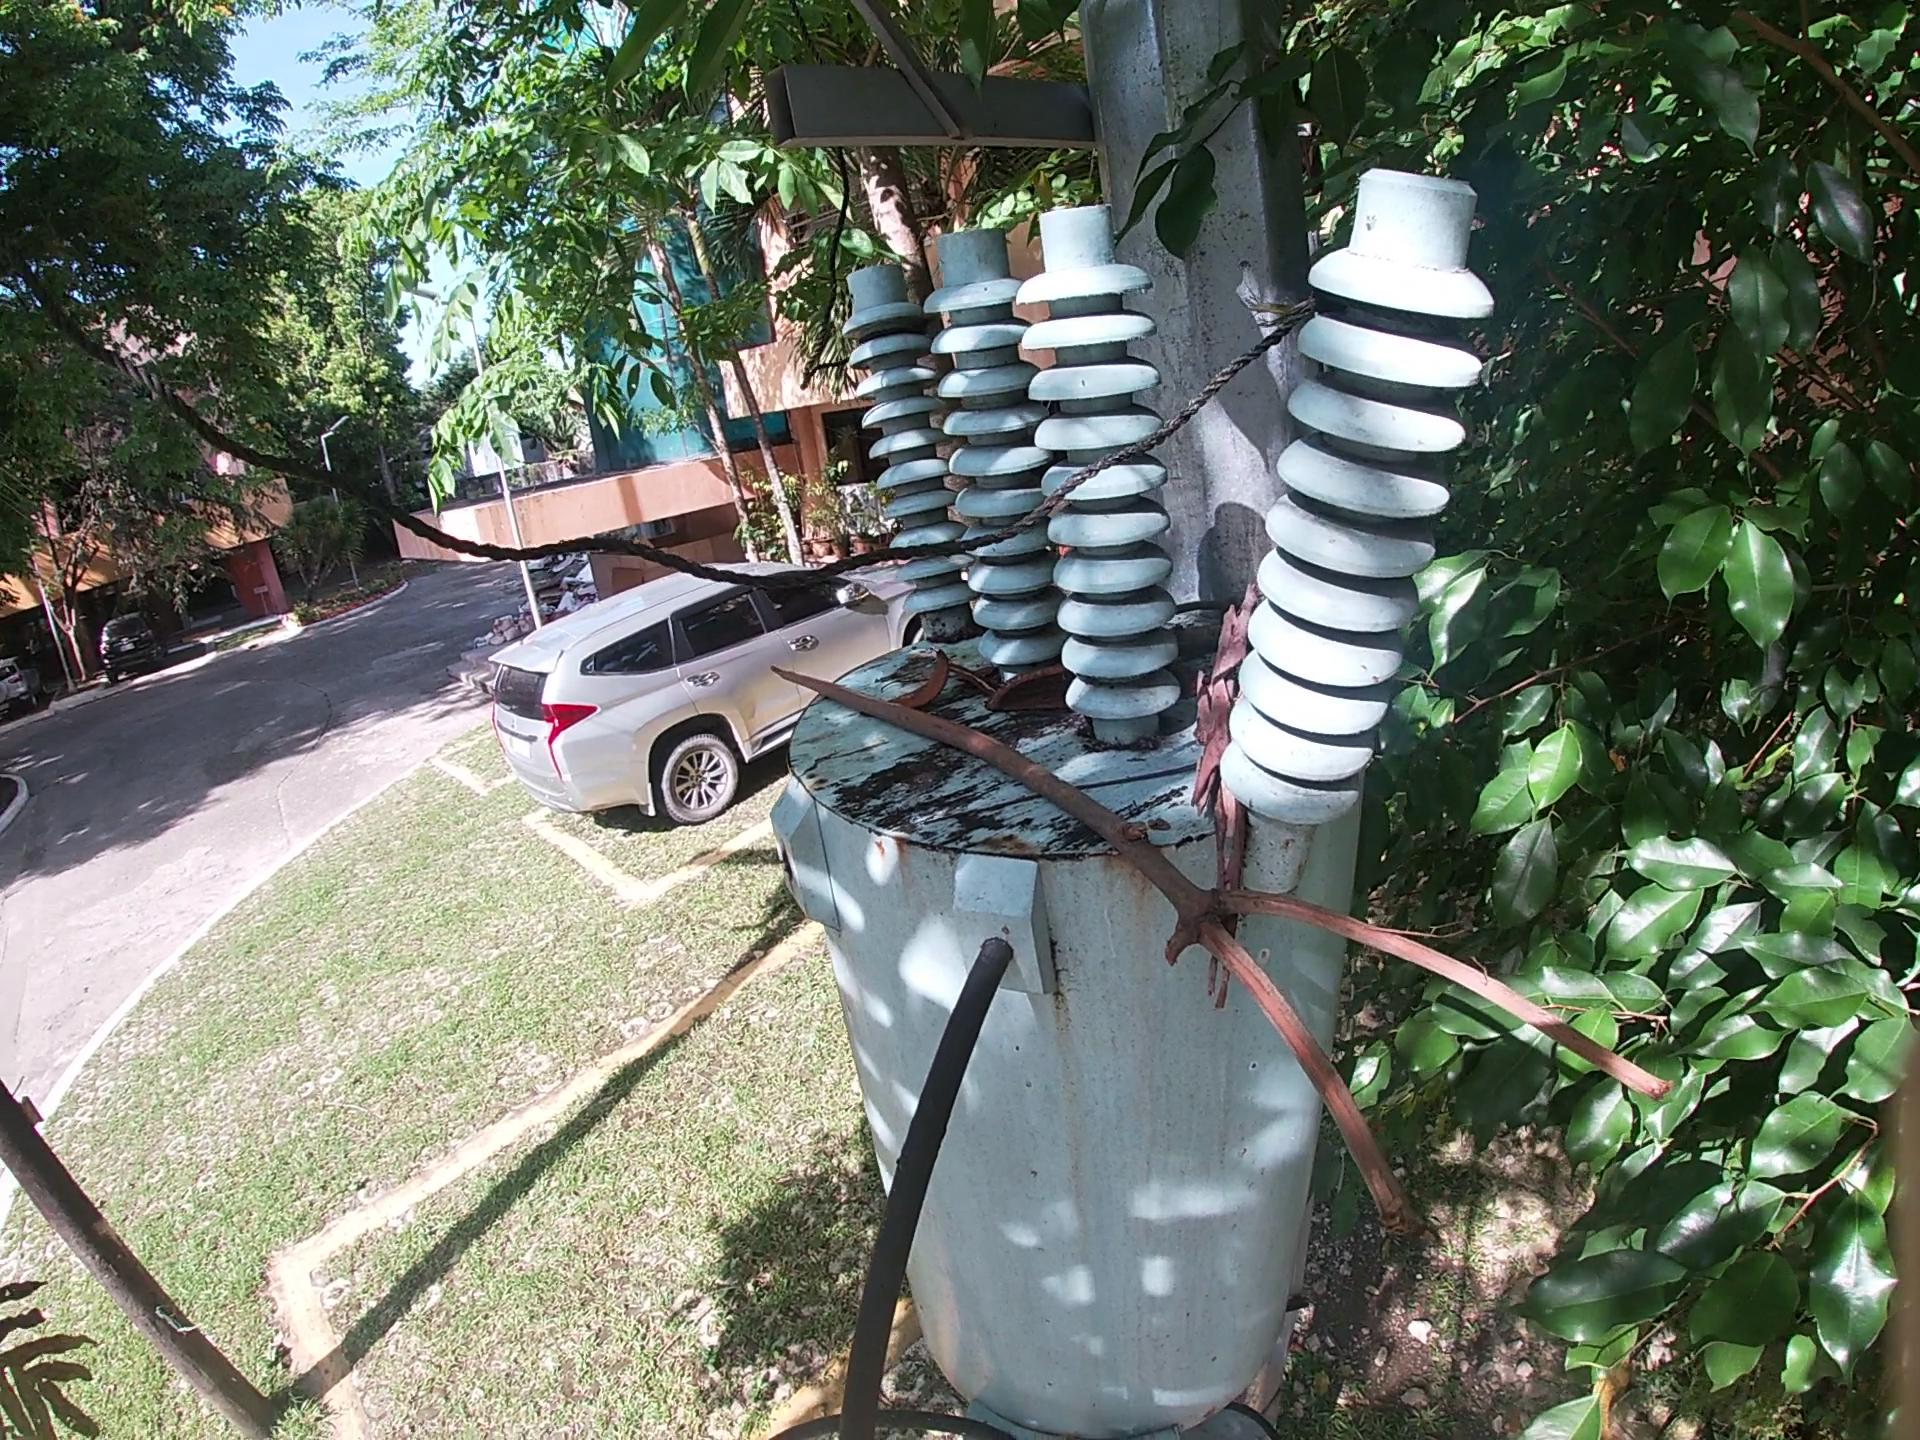mahogany fruit: (980, 675, 1066, 743), (901, 653, 958, 697), (1176, 675, 1212, 706)
tree branch: (756, 669, 1739, 1286), (1191, 523, 1259, 1053), (903, 755, 1209, 838), (1172, 629, 1261, 664), (955, 658, 1005, 700)
